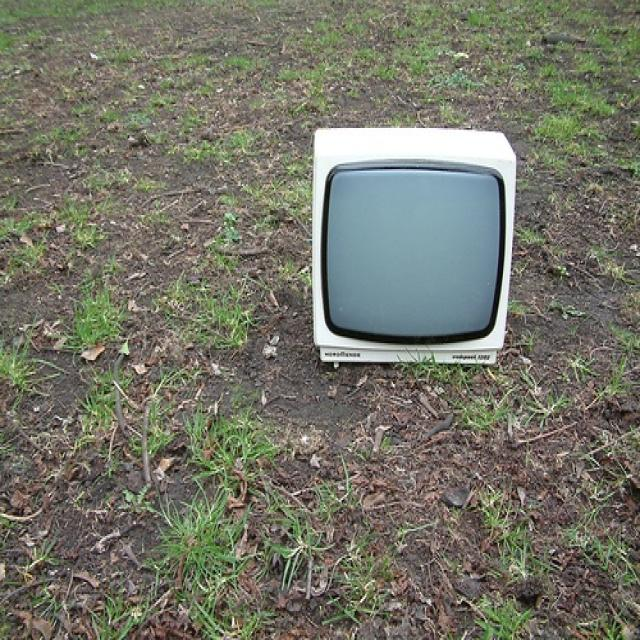tvmonitor: (308, 124, 516, 373)
